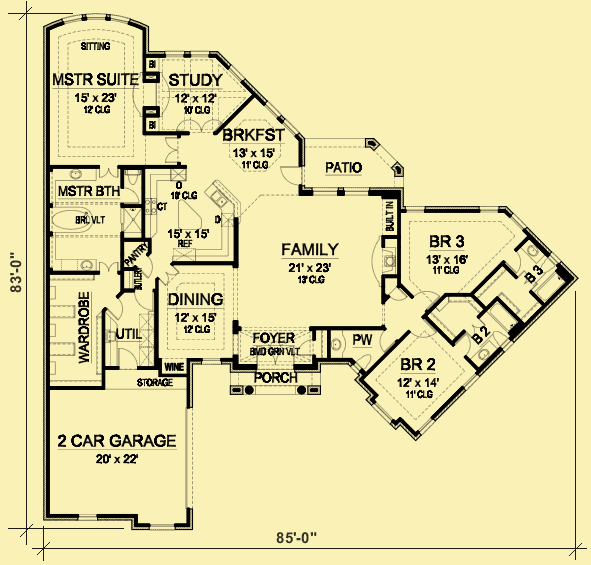kitchen has a cooking range, twin sink, and dining bar: (142, 167, 239, 263)
small bathroom has a small and large sink: (324, 329, 383, 373)
small bathroom has a small sink, large sink and tub: (503, 234, 570, 305), (461, 302, 522, 370)
this is a master bathroom with tub, small sinks and shower space: (45, 170, 143, 271)
